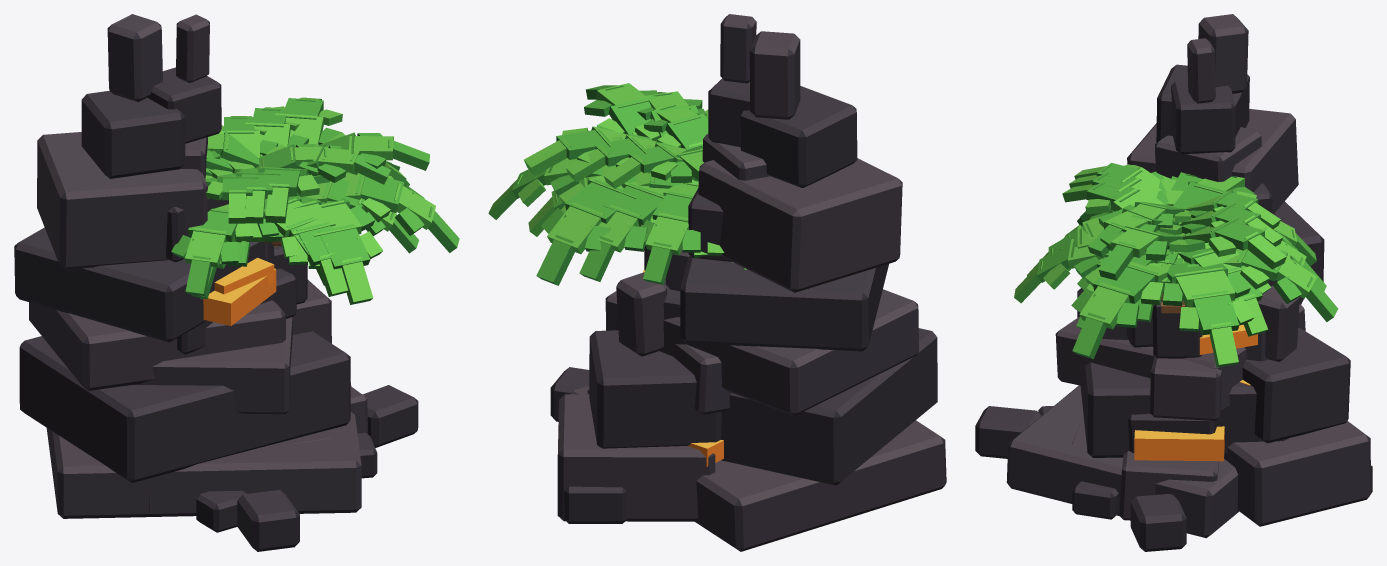
The model's file is PropsMapaBloques.fbx.
3 renders of one model, left to right at view 1: azimuth 30°, elevation 25°; view 2: azimuth 150°, elevation 25°; view 3: azimuth 270°, elevation 25°, orthographic. The views are drawn at different scales.
Parts seen in each view (by area): view 1: Cresta2, Cresta1, Palmera2, Palmera1, Palmera3; view 2: Cresta2, Palmera2, Cresta1, Palmera3, Palmera1; view 3: Cresta2, Cresta1, Palmera2, Palmera1, Palmera3.
Boxes of the visible parts, <box> form: Cresta2: <box>14,14,418,551</box>; Cresta1: <box>133,14,377,532</box>; Palmera2: <box>199,97,459,304</box>; Palmera1: <box>190,107,419,299</box>; Palmera3: <box>171,116,357,296</box>; Cresta2: <box>550,31,946,551</box>; Palmera2: <box>488,83,733,285</box>; Cresta1: <box>587,14,770,466</box>; Palmera3: <box>603,103,708,284</box>; Palmera1: <box>528,91,746,281</box>; Cresta2: <box>975,14,1372,551</box>; Cresta1: <box>1038,38,1305,520</box>; Palmera2: <box>1014,176,1338,367</box>; Palmera1: <box>1027,172,1326,336</box>; Palmera3: <box>1061,162,1316,322</box>.
Size of the model in its own units: 18.56 by 20 by 17.01.
1 material, 1 textured.
